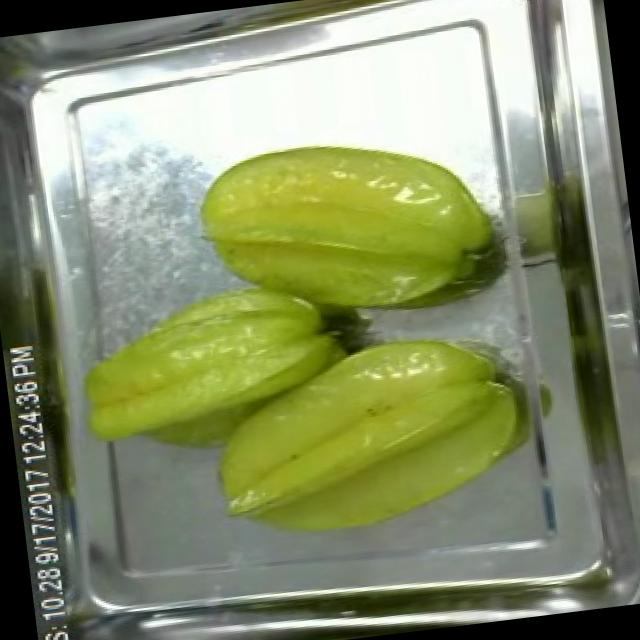fruit: (194, 313, 546, 556), (181, 112, 511, 346), (60, 261, 362, 476)
